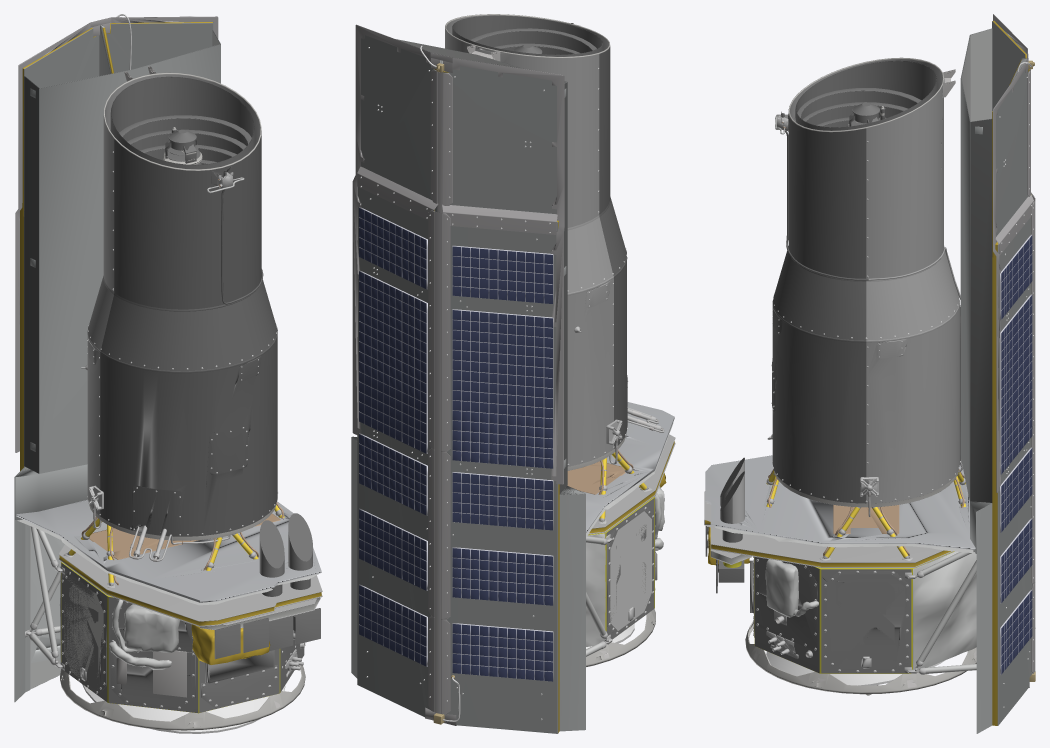
File: spitzer.glb
The picture shows the model from 3 angles, left to right: view 1: azimuth 30°, elevation 25°; view 2: azimuth 150°, elevation 25°; view 3: azimuth 270°, elevation 25°; orthographic projection. The views are drawn at different scales.
Parts seen in each view (by area): view 1: Fake; view 2: Fake; view 3: Fake.
Boxes of the visible parts, left/top/right/bottom form: Fake: left=14, top=14, right=322, bottom=733; Fake: left=351, top=14, right=675, bottom=733; Fake: left=704, top=14, right=1035, bottom=733.
Size of the model in its own units: 1.62 by 4.49 by 2.11.
1 material, 1 textured.
